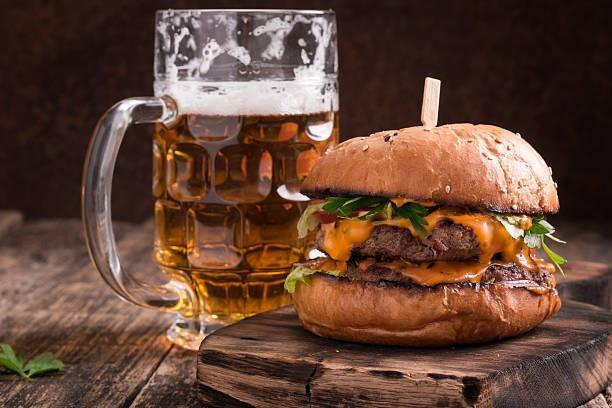glass-mug: (77, 5, 343, 351)
